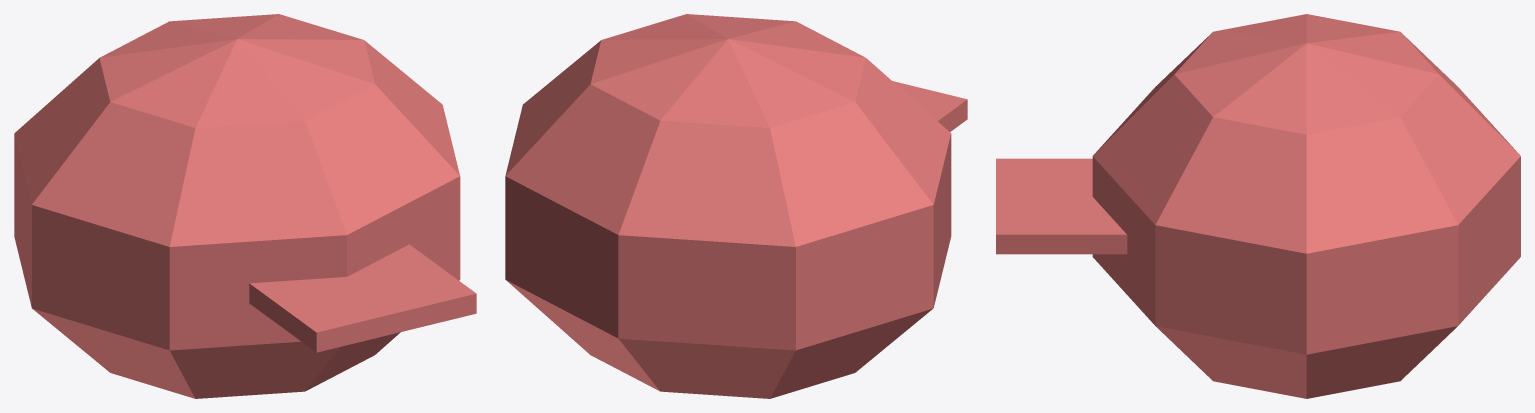
The model's file is hat_cap.glb.
3 renders of one model, left to right at view 1: azimuth 30°, elevation 25°; view 2: azimuth 150°, elevation 25°; view 3: azimuth 270°, elevation 25°, orthographic. The views are drawn at different scales.
Parts seen in each view (by area): view 1: cap, box; view 2: cap, box; view 3: cap, box.
Boxes of the visible parts, x1,y1,x2,y2 form: cap: (14,14,460,398); box: (249,244,476,352); cap: (505,14,951,398); box: (892,81,967,131); cap: (1092,14,1520,398); box: (996,158,1127,254).
Bounding box in the file's own units: 0.5136 × 0.4 × 0.5828.
